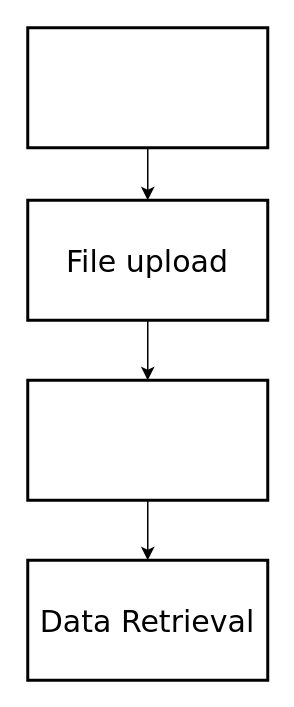
Some shapes in this 294 by 707 pixel diagram are drawn without their labels. Each missing label, with the centre of its shape:
"Blockchain Integration" belongs at [147,439].
"User Authentication" belongs at [147,87].
